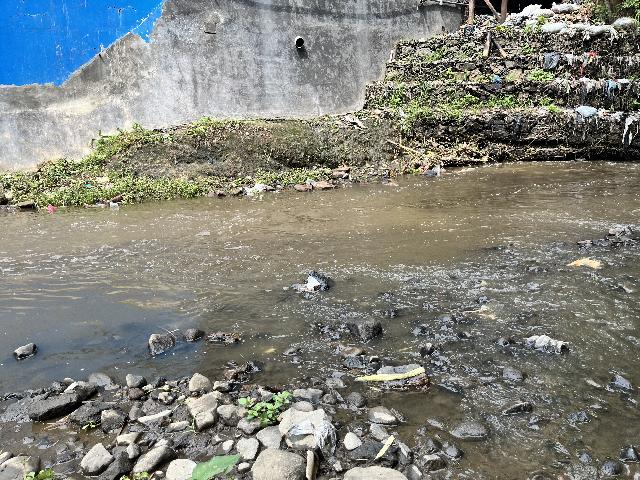Sampah Anorganik: (283, 274, 334, 296), (479, 302, 504, 319)
Sampah Organik: (351, 364, 435, 388), (567, 257, 604, 272)
